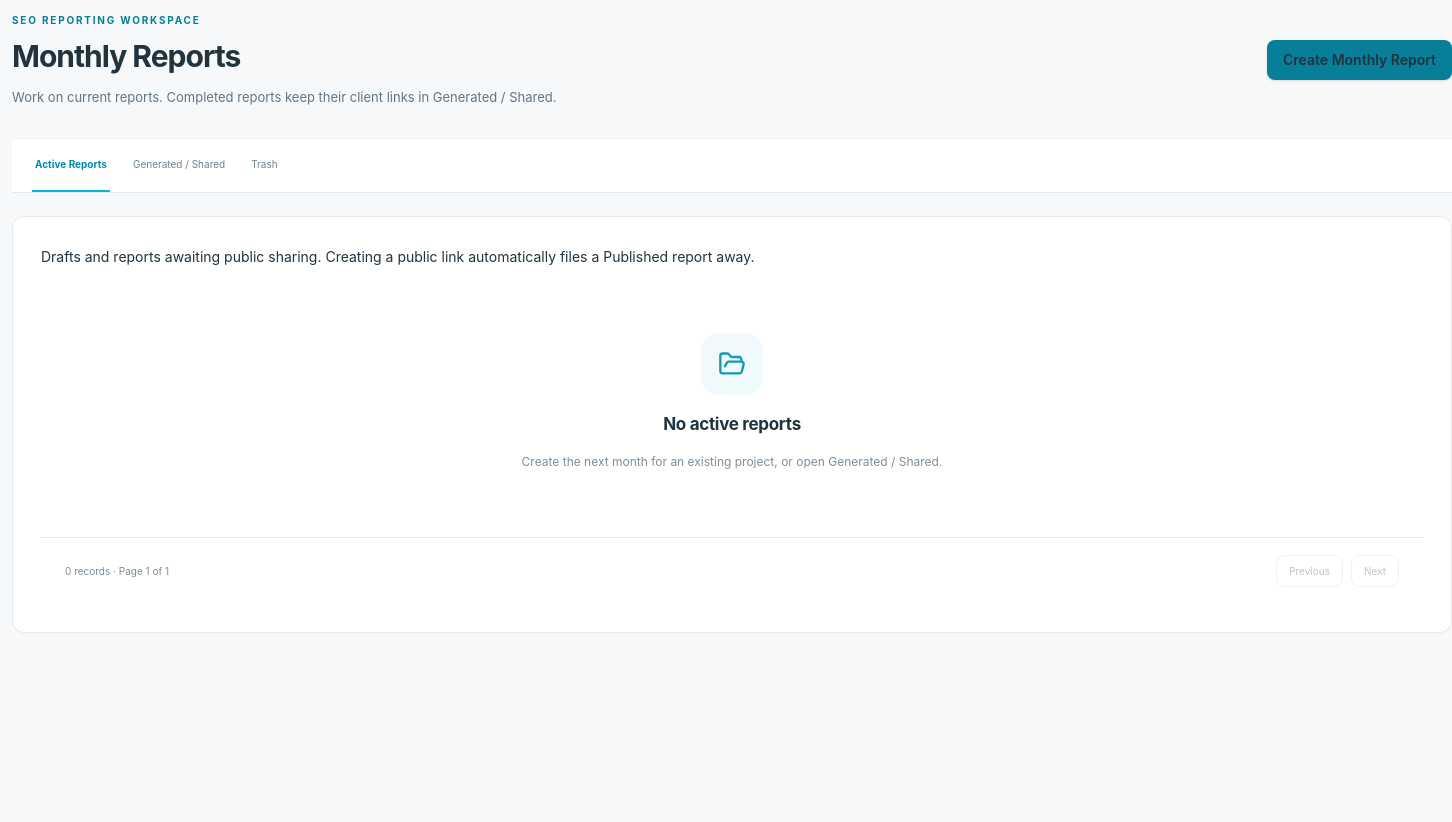
defaults to active work and switches to published history without changing a report status
Expected: the heading "No active reports" is shown, [663,412,801,438]
Click the tab "Generated / Shared" at [179, 165], box [130,139,228,192]
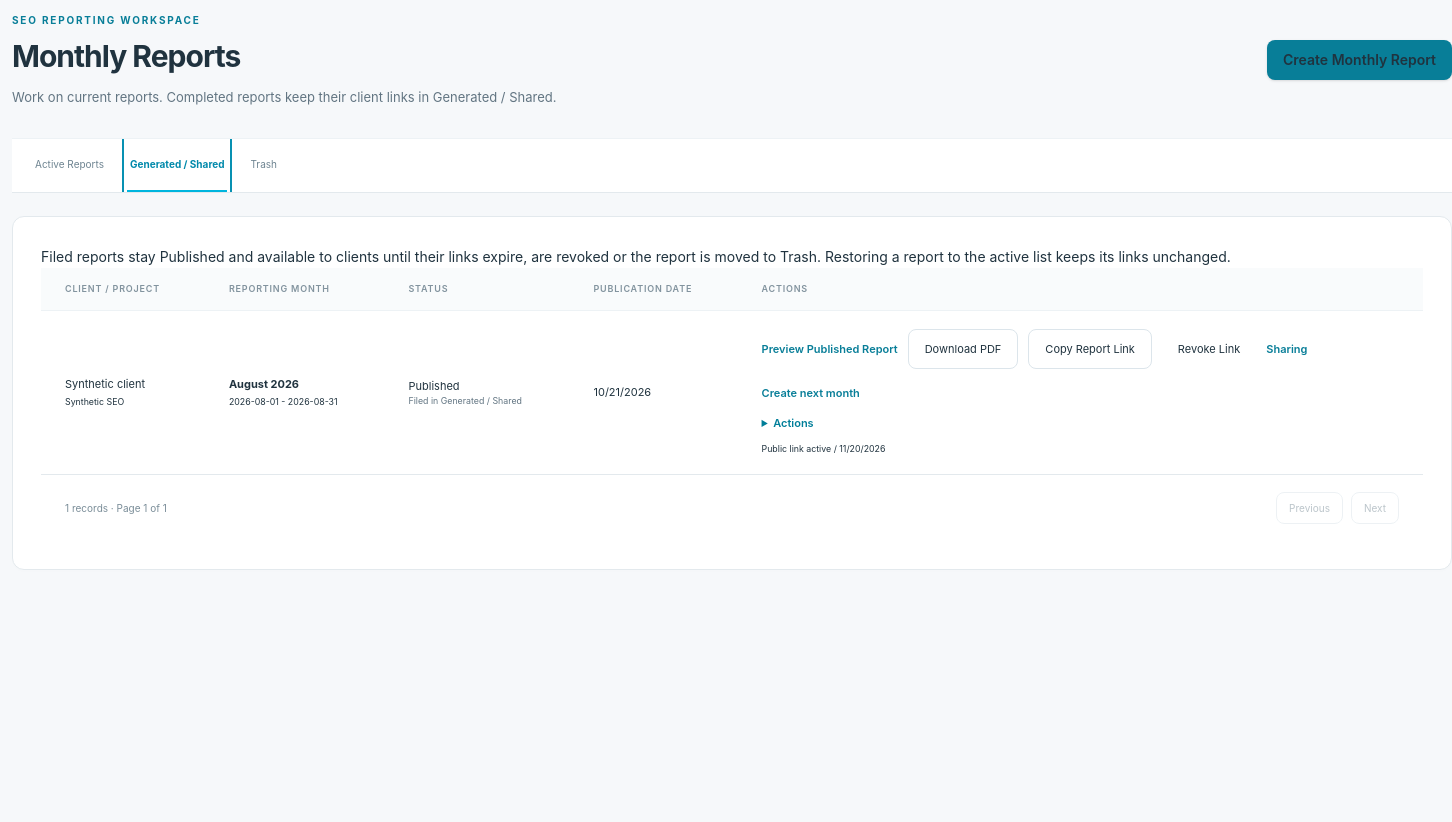
Now the text "August 2026" is shown, box [229,377,299,391]
Now the column heading "Publication date" is shown, box [570,268,738,310]
